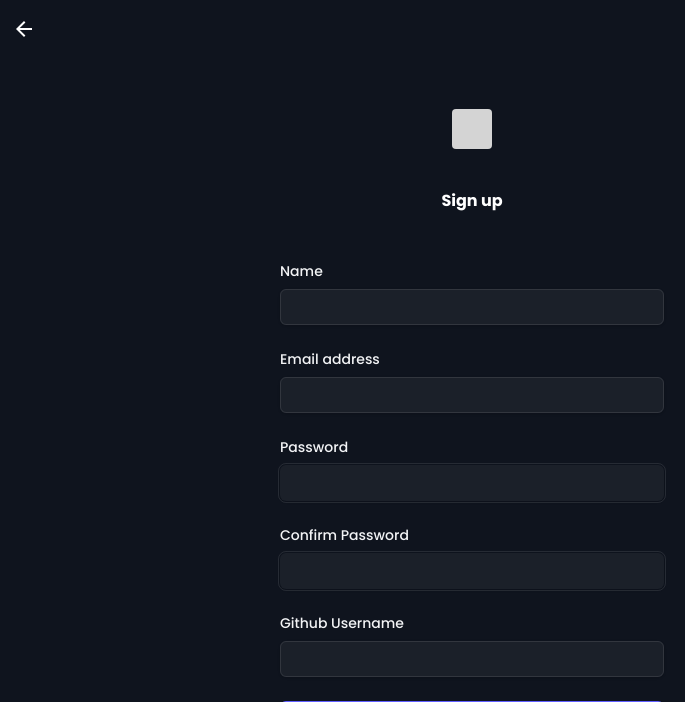
Test case: Register Component › should display error message when there's an error
In the field with test id "name-id": (472, 307) [280,289,664,325], type "Luka"
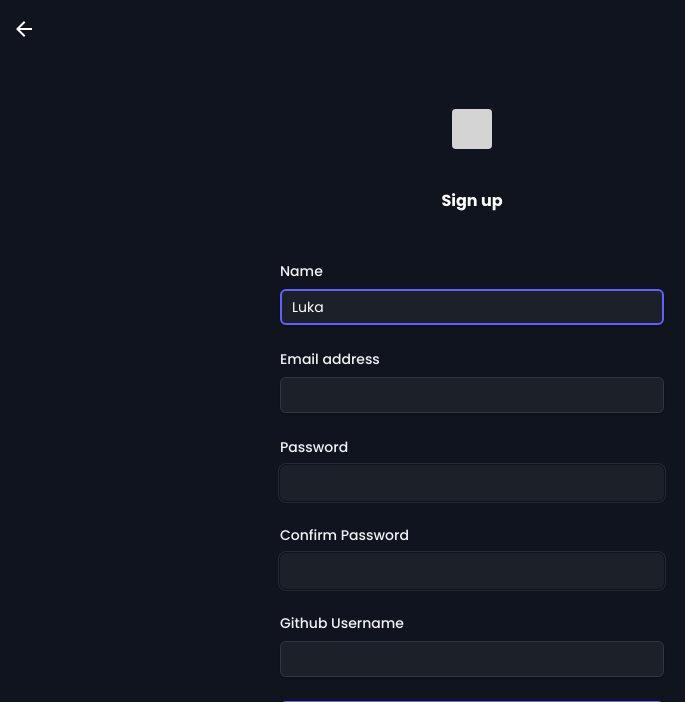
In the field with test id "email-id": (472, 395) [280,377,664,413], type "luka@mail.com"
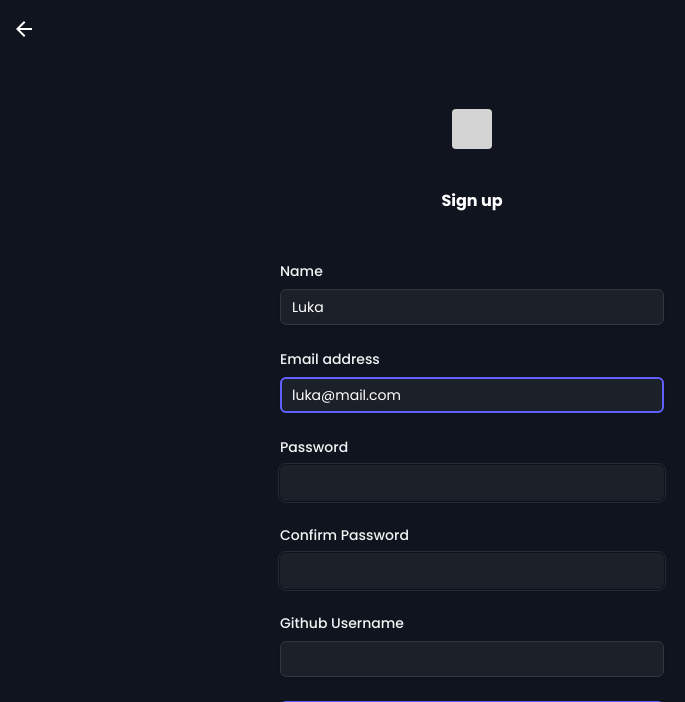
In the password field with test id "password-id": (472, 483) [280,465,664,501], type "password"
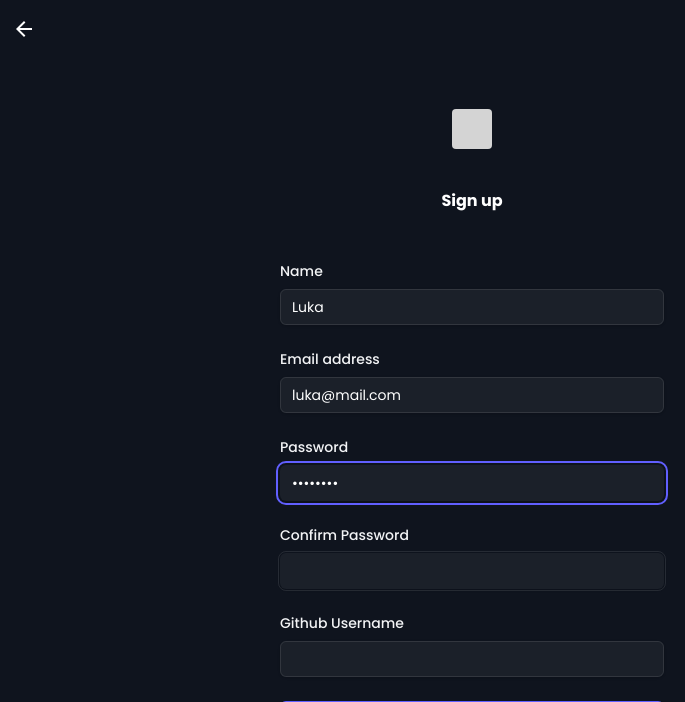
In the password field with test id "confirm-password-id": (472, 571) [280,553,664,589], type "password"
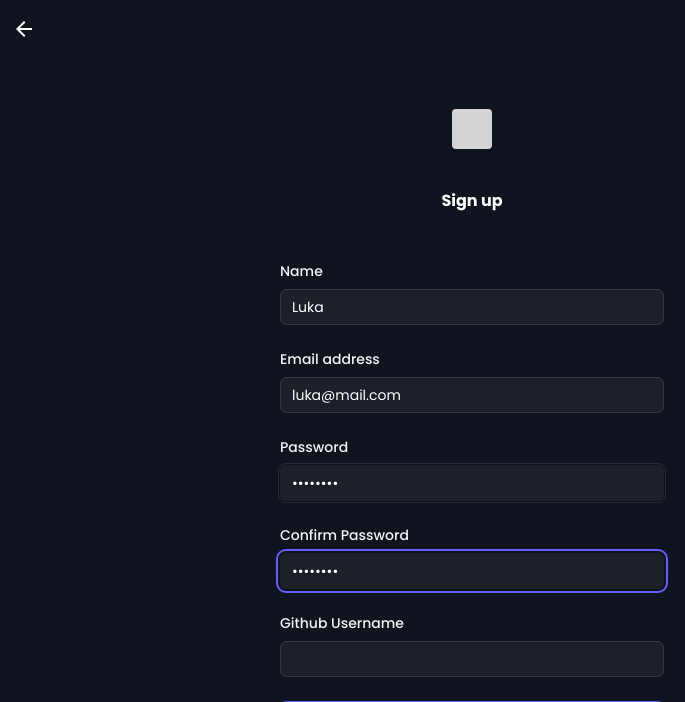
In the field with test id "github-username-id": (472, 659) [280,641,664,677], type "luka-git"
(page scrolled)
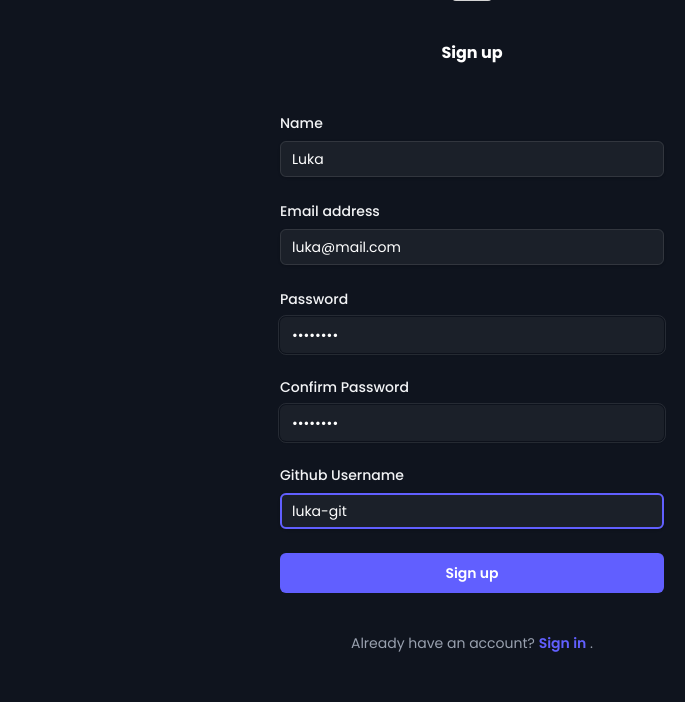
Click the button with test id "sign-up-button": (472, 573) [280,553,664,593]
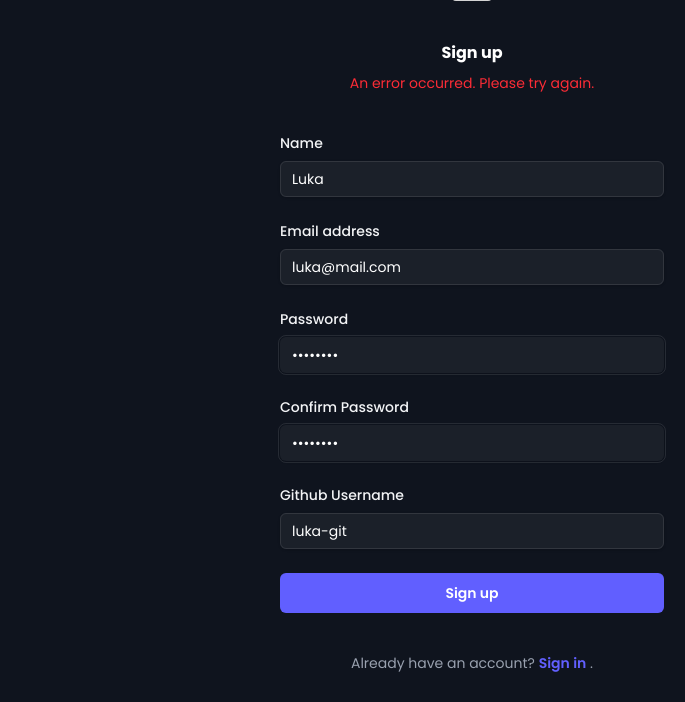
Expected: the text "An error occurred. Please try again." is shown, [350,73,594,93]
